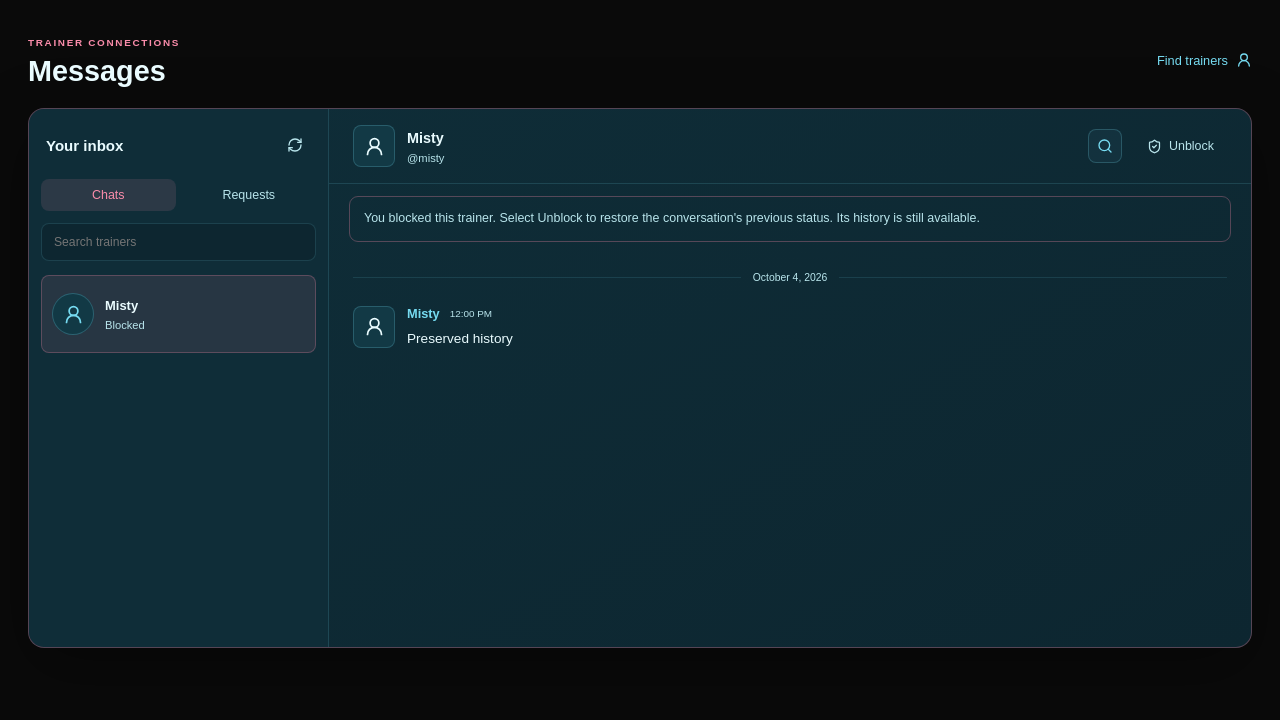
Test: messages inbox › lets the blocker unblock and resume messaging without losing history
The image size is (1280, 720).
Expected: the text "Preserved history" is shown, top-left (407, 331), bottom-right (513, 346)
Expected: the field labelled "Message Misty" is not shown
Click the button "Unblock". click: point(1180, 146)
box: top-left (1134, 130), bottom-right (1227, 162)
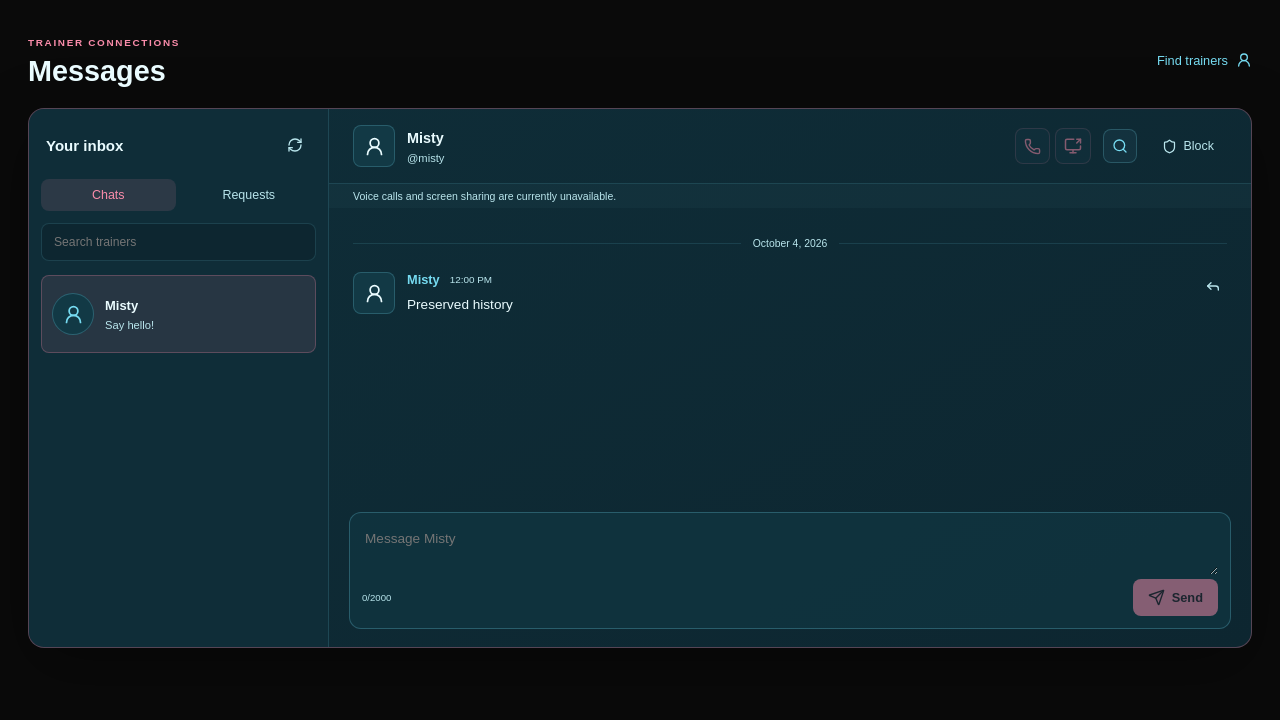
Expected: the text "Preserved history" is shown, top-left (407, 297), bottom-right (513, 312)
Expected: the text box labelled "Message Misty" is shown, top-left (362, 525), bottom-right (1218, 575)
